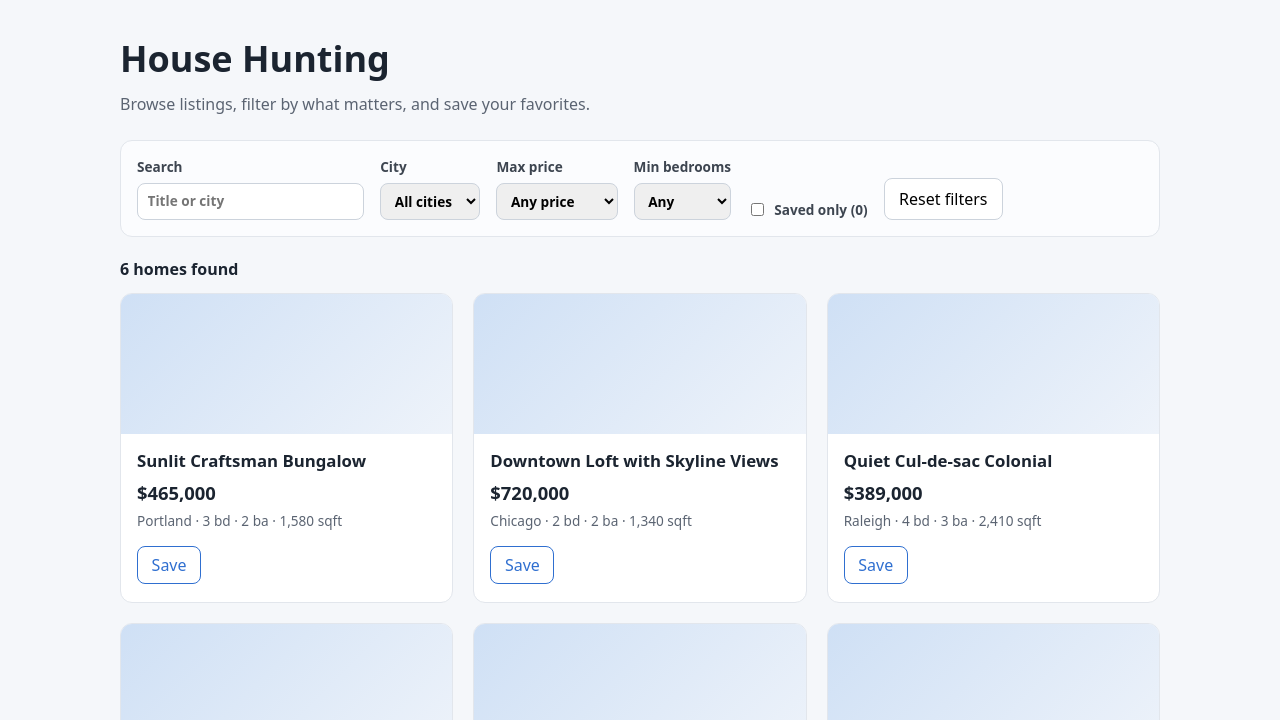
Test case: App › saves a listing and filters down to saved homes only
The image size is (1280, 720).
Click the button "Save" below "1,580": coordinates (169, 565) [137,546,201,584]
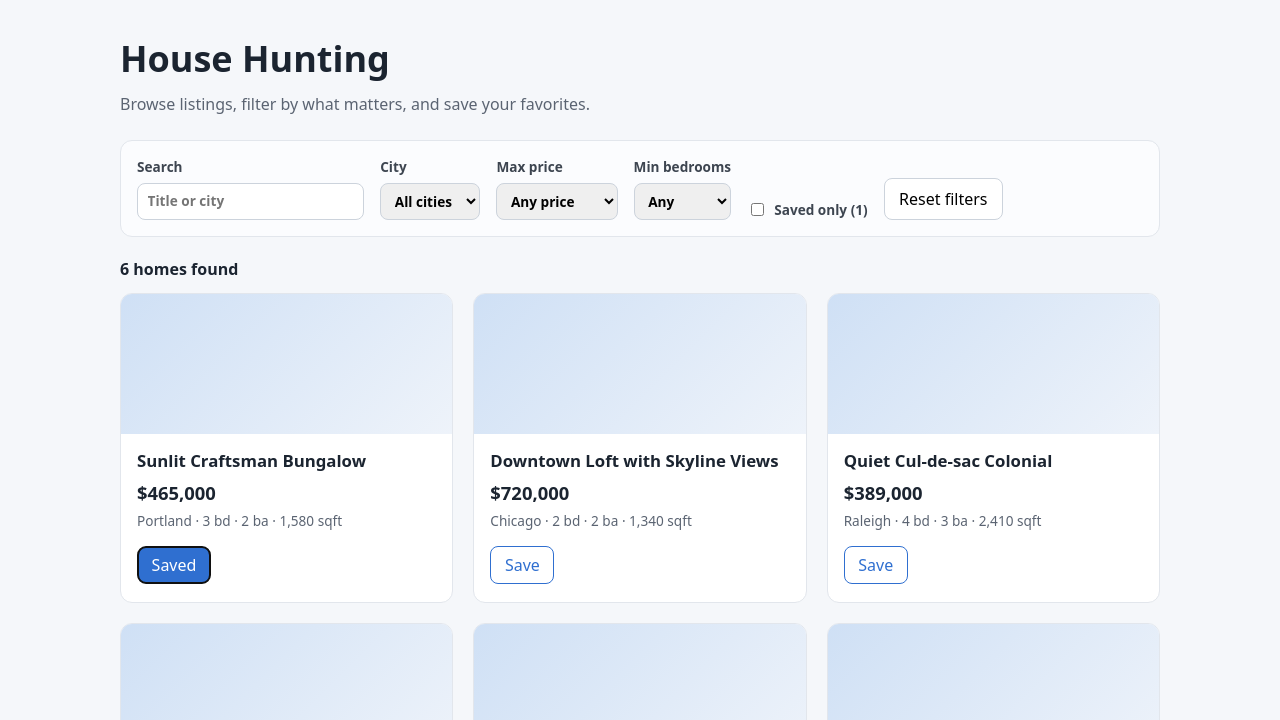
Expected: the button "Saved" is pressed, [137,546,211,584]
Click the checkbox labelled "Saved only (1)": coordinates (758, 210) [751,203,764,216]
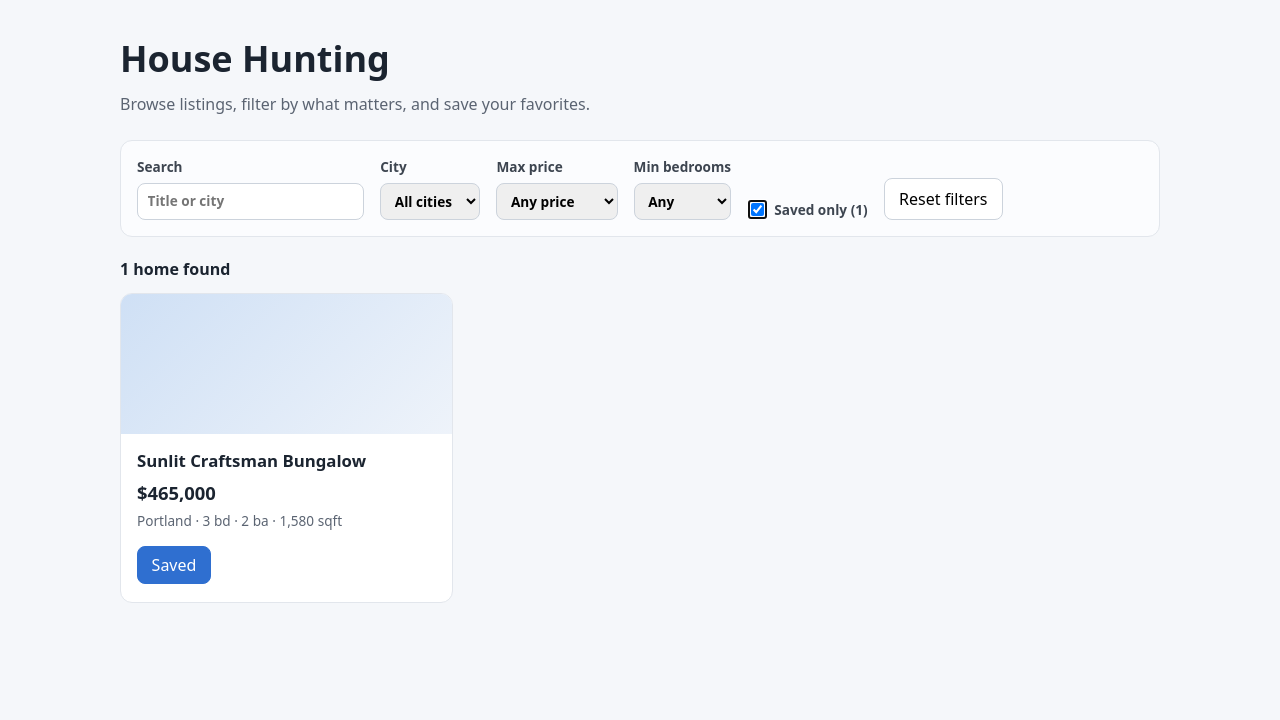
Click the button "Saved": coordinates (174, 565) [137,546,211,584]
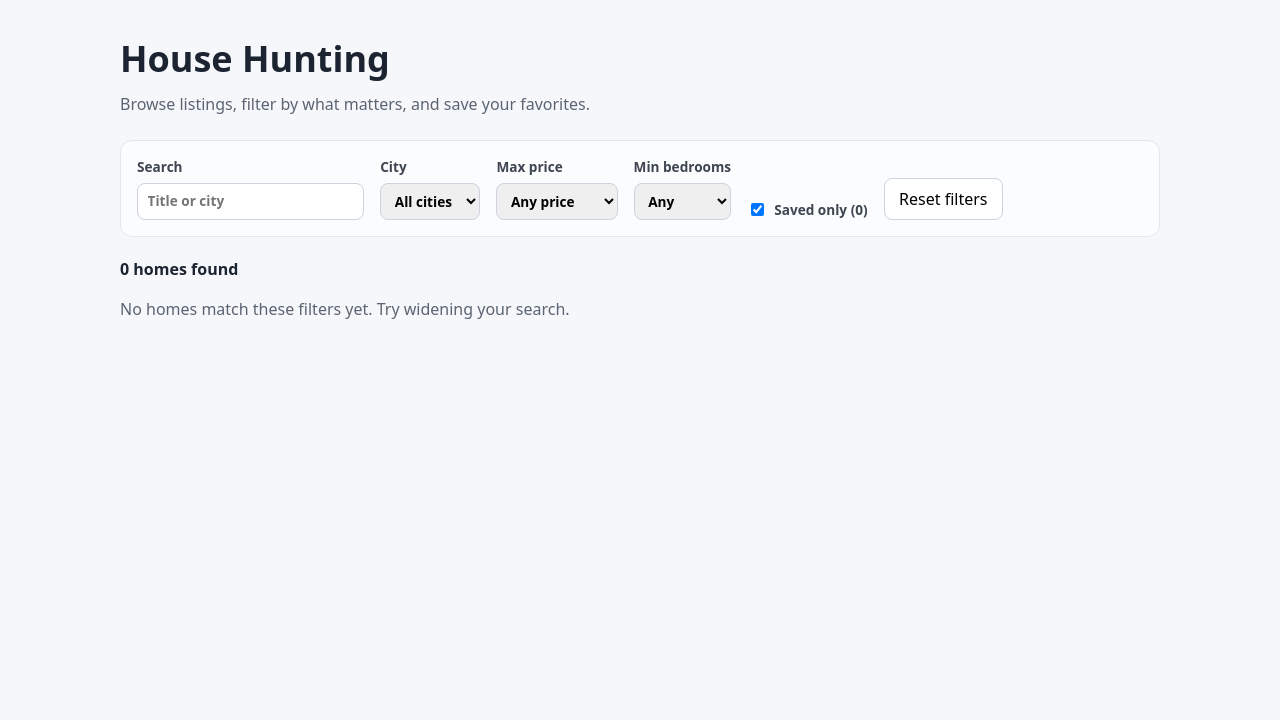
Expected: the text "No homes match these filters yet. Try widening your search." is shown, [120,298,570,320]
